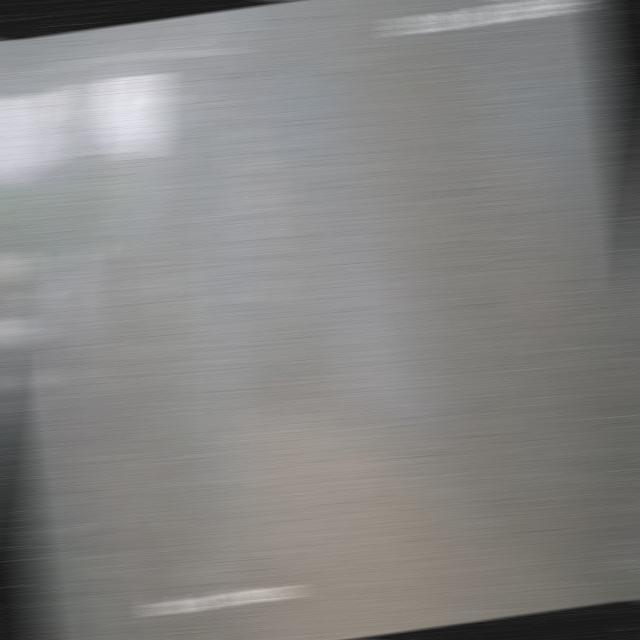cement_mixer_truck: (22, 207, 170, 440)
